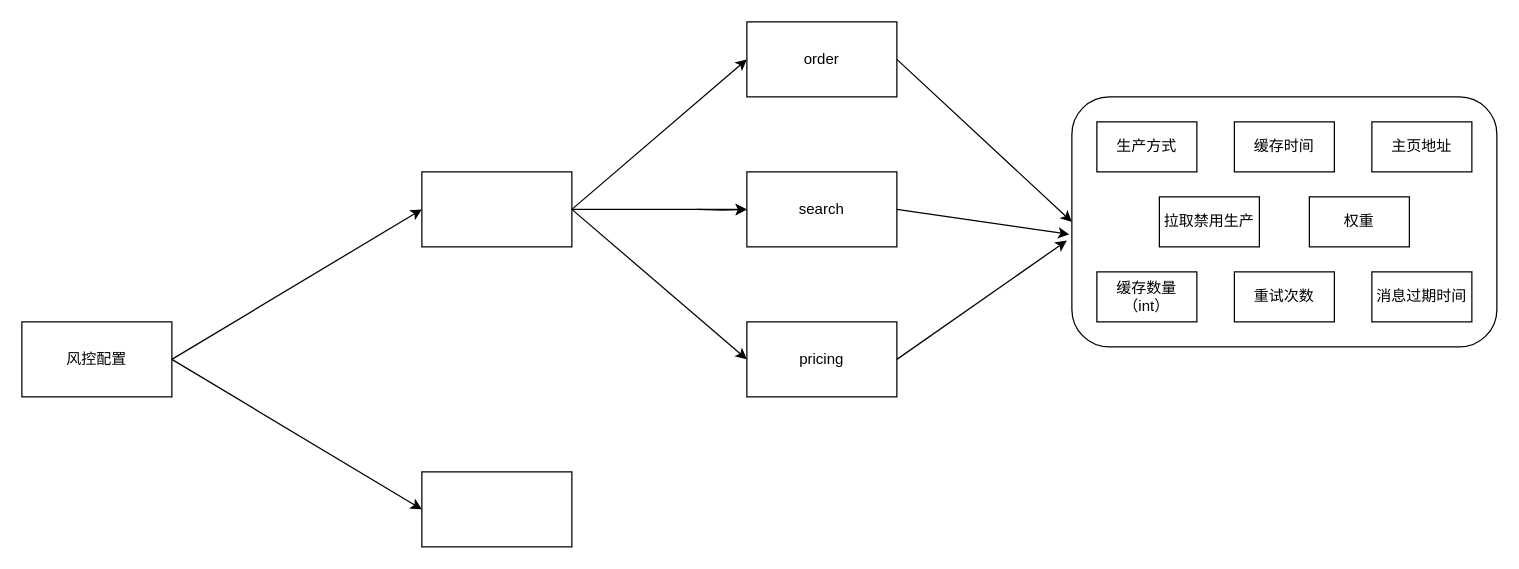
The diagram is 1519 pixels wide and 569 high, and some of its shapes have lost their labels. Here are the shapes that lost their labels. From the top down, the centre of each, then its label:
At [496,209]: "KE".
At [496,509]: "mm".
